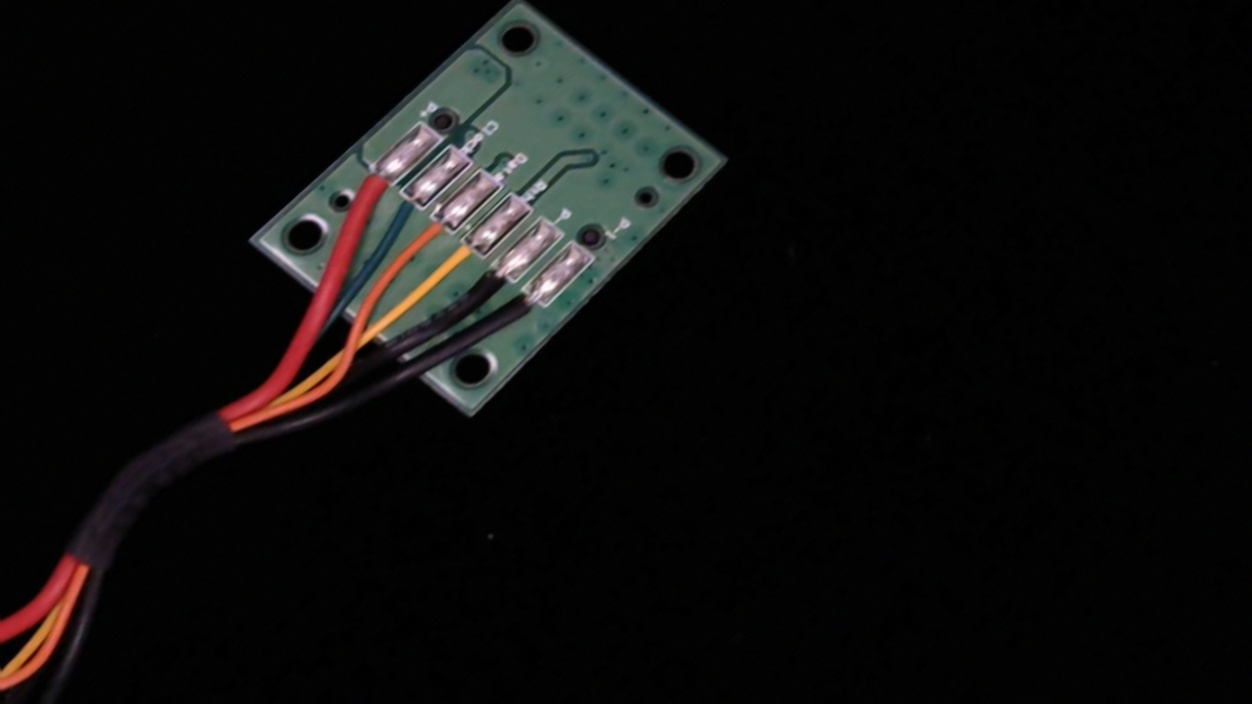Black: (442, 250, 530, 325)
Black1: (483, 278, 561, 346)
Green: (351, 175, 441, 251)
Orange: (381, 201, 470, 278)
Red: (320, 155, 410, 229)
Yellow: (419, 225, 500, 294)
